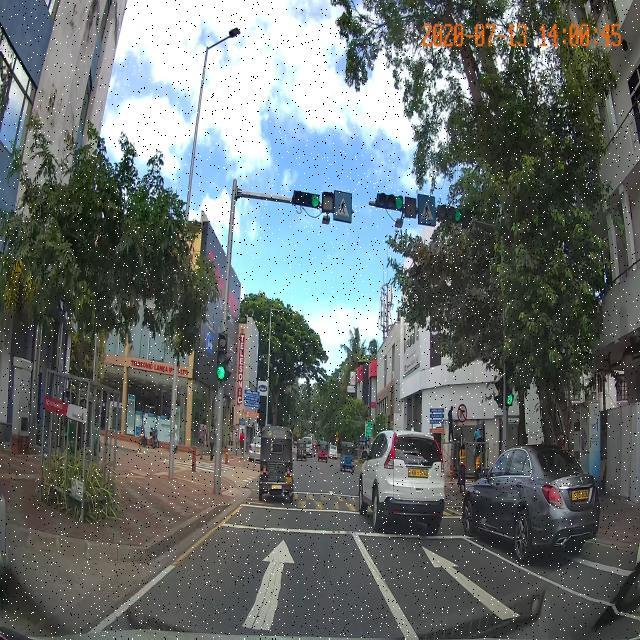forward: (101, 529, 420, 639)
